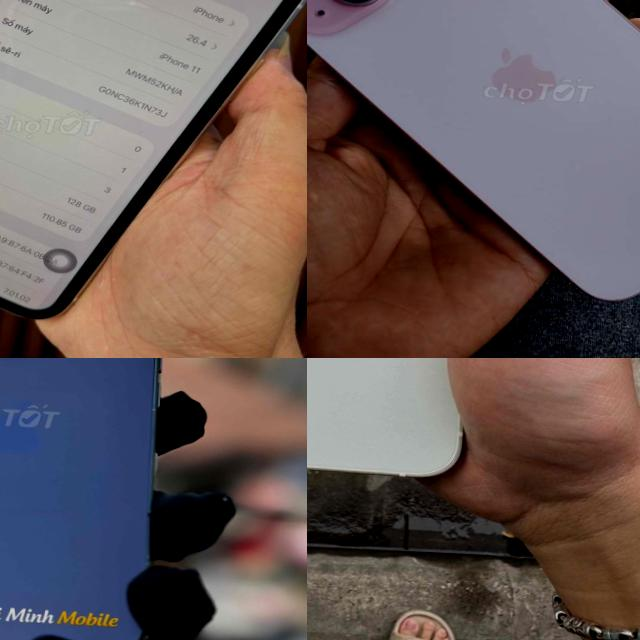gen_11: (0, 0, 305, 318)
gen_12_13: (307, 358, 500, 479)
gen_14: (0, 358, 177, 640)
gen_15: (307, 0, 640, 319)
